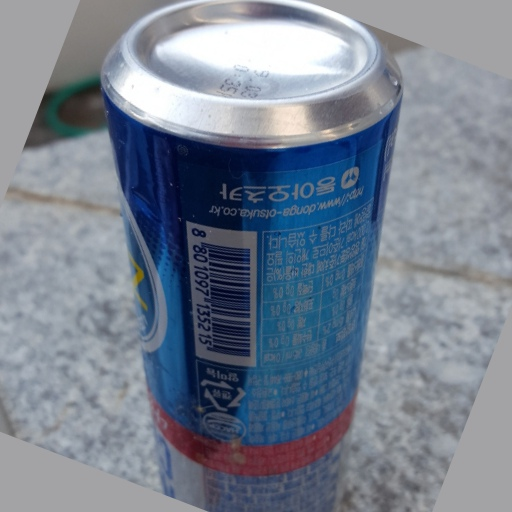Metal_0: (100, 1, 405, 512)
